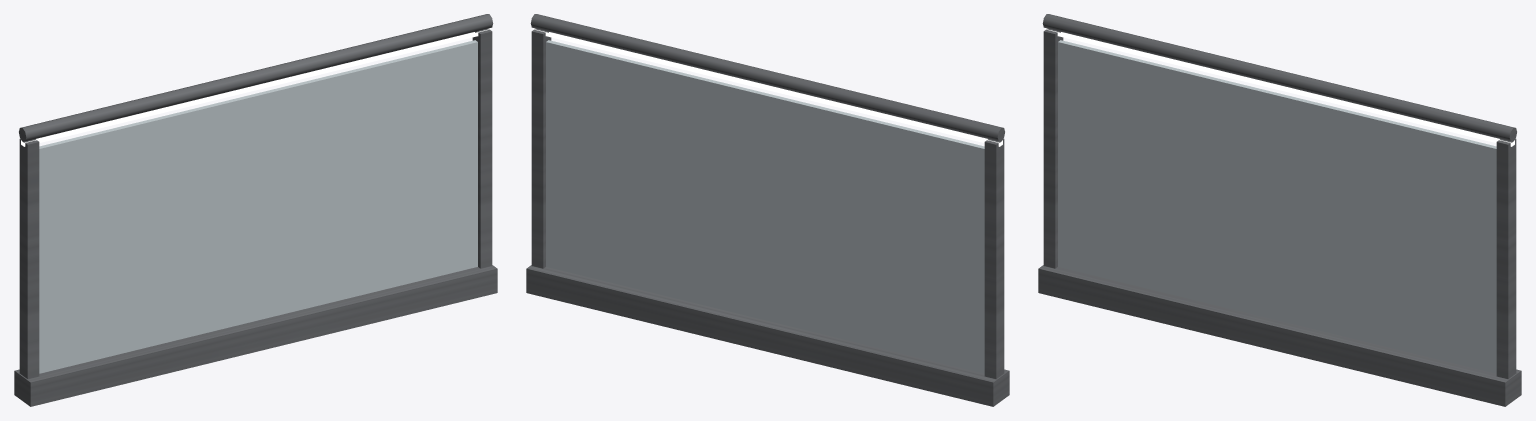
The model's file is SM_LFD_GlassBalustrade_2m.fbx.
3 views of the same model, side by side, from view 1: azimuth 30°, elevation 25°; view 2: azimuth 150°, elevation 25°; view 3: azimuth 330°, elevation 25° (orthographic).
Visible parts, largest first — view 1: SM_LFD_GlassBalustrade_2m_LOD0; view 2: SM_LFD_GlassBalustrade_2m_LOD0; view 3: SM_LFD_GlassBalustrade_2m_LOD0.
Part boxes in pixels (x1,y1,x2,y2): SM_LFD_GlassBalustrade_2m_LOD0: (14,14,497,406); SM_LFD_GlassBalustrade_2m_LOD0: (526,14,1009,406); SM_LFD_GlassBalustrade_2m_LOD0: (1038,14,1521,406).
Size of what is drawn, in the model's own units: 2 by 1.12 by 0.12.
